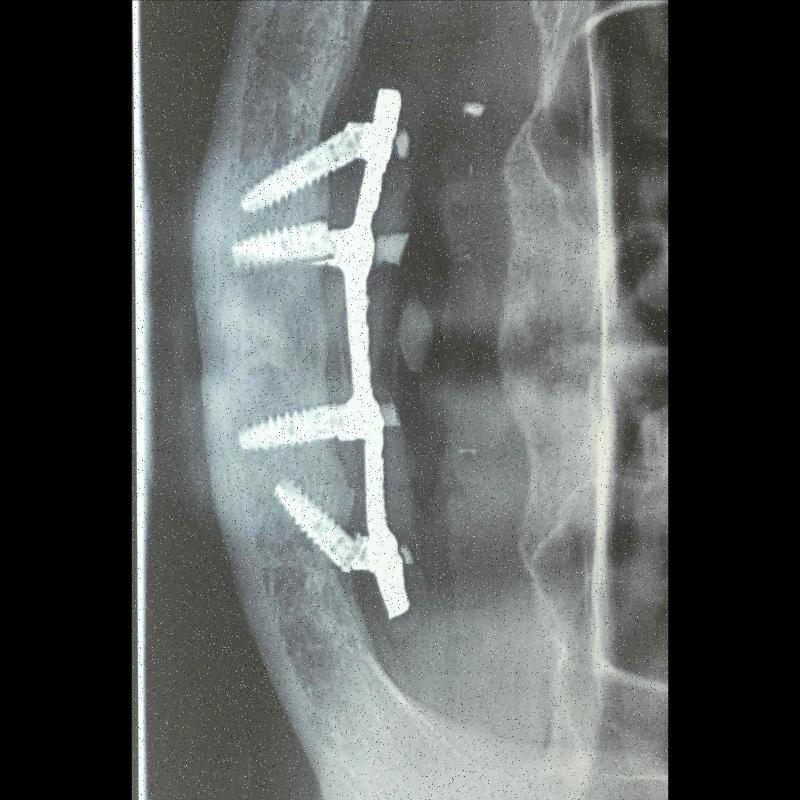MIS: (238, 123, 358, 215), (258, 476, 362, 568), (226, 216, 332, 274), (232, 404, 338, 454)
